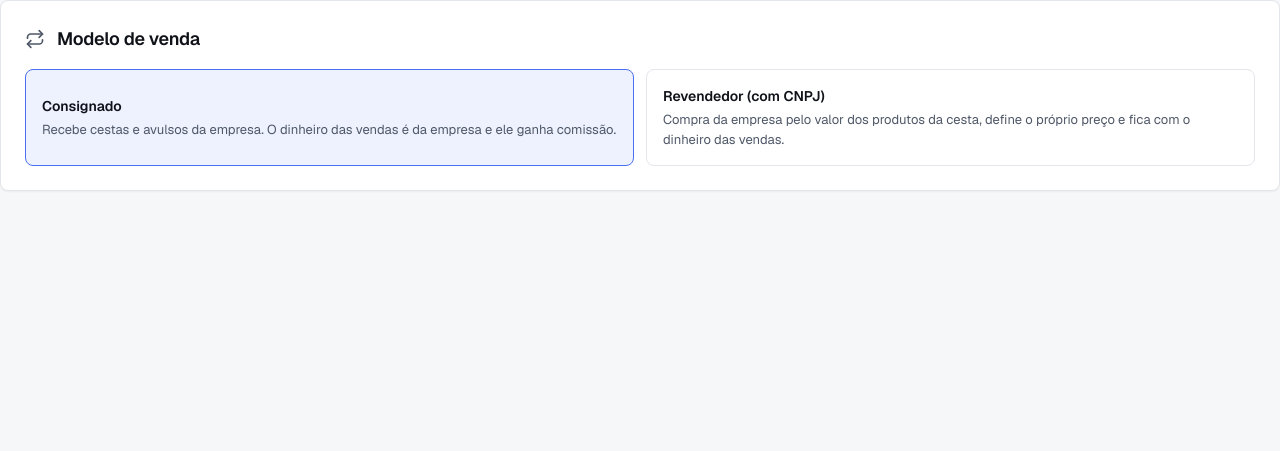
Test: ModeloVendaCard (Fase 9 — revendedor) › preenche com o CNPJ do vendedor e manda só os números
The image size is (1280, 451).
Later steps or results of the test are not shown.
Click the radio button labelled "Revendedor".
click(950, 118)  # box [646,69,1255,166]
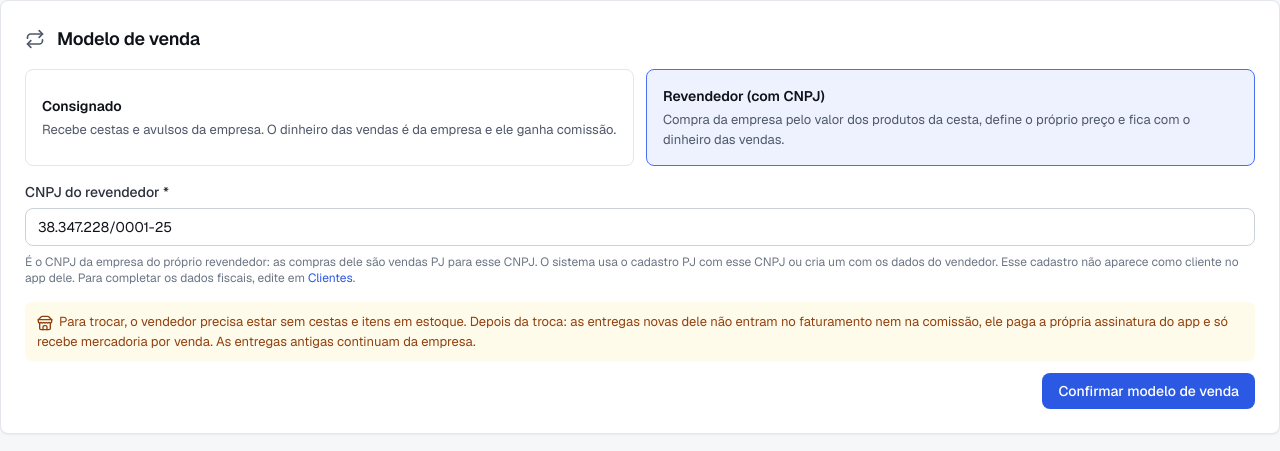
Expected: the field with placeholder "00.000.000/0000-00" holds "38.347.228/0001-25", [25,208,1255,246]
